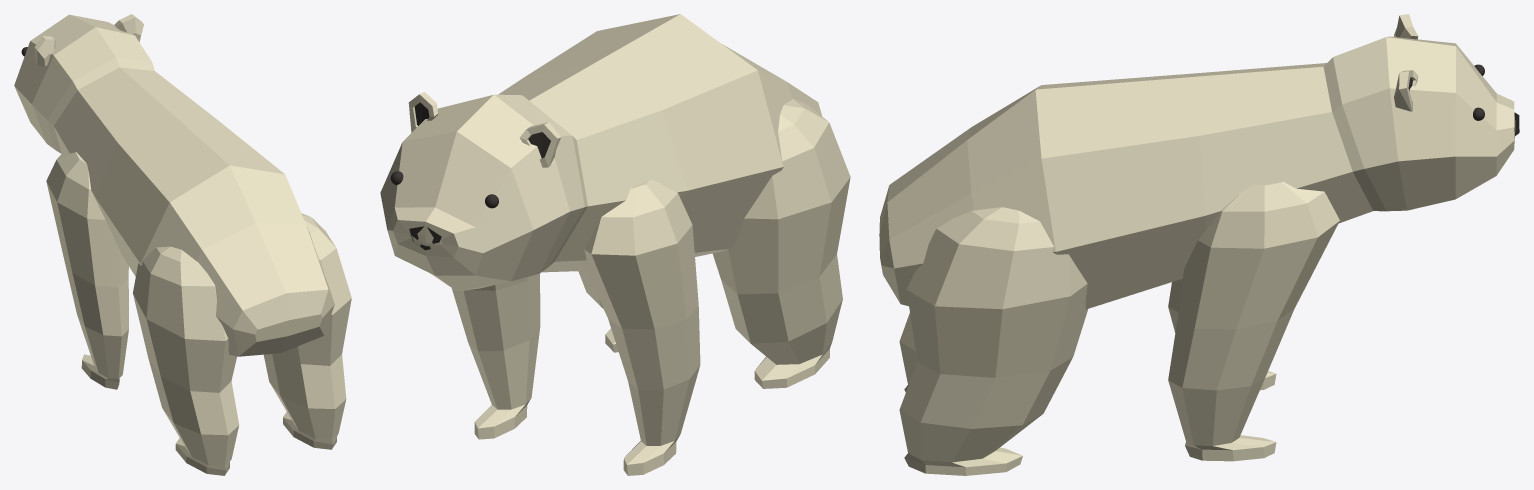
Rendered from PolarBear.glb.
3 views of the same model, side by side, from view 1: azimuth 30°, elevation 25°; view 2: azimuth 150°, elevation 25°; view 3: azimuth 270°, elevation 25° (orthographic). The views are drawn at different scales.
Parts seen in each view (by area): view 1: Cube; view 2: Cube; view 3: Cube.
Boxes of the visible parts, bbox=[...] form: Cube: bbox=[14, 14, 351, 475]; Cube: bbox=[380, 14, 850, 475]; Cube: bbox=[879, 14, 1519, 475].
Bounding box in the file's own units: 3.5 × 5.28 × 7.74.
